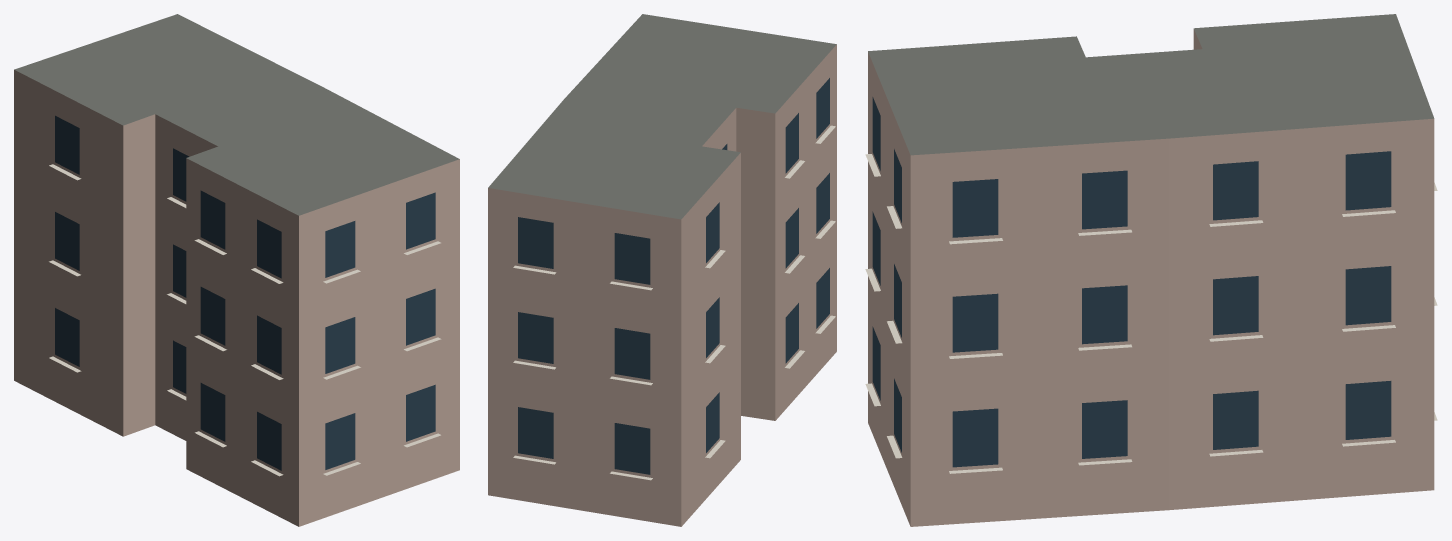
The picture shows the model from 3 angles, left to right: view 1: azimuth 30°, elevation 25°; view 2: azimuth 150°, elevation 25°; view 3: azimuth 270°, elevation 25°; orthographic projection. The views are drawn at different scales.
Parts seen in each view (by area): view 1: Footprint 0, Inferred window bays, Window sills; view 2: Footprint 0, Inferred window bays, Window sills; view 3: Footprint 0, Inferred window bays, Window sills.
Part boxes in pixels (x1,y1,x2,y2): Footprint 0: (14,14,459,526); Inferred window bays: (55,115,435,470); Window sills: (49,164,441,476); Footprint 0: (488,14,836,526); Inferred window bays: (518,78,829,474); Window sills: (513,125,835,480); Footprint 0: (868,14,1434,526); Inferred window bays: (872,97,1391,467); Window sills: (865,154,1437,473).
Bounding box in the file's own units: 9.02 × 10.96 × 15.3.
